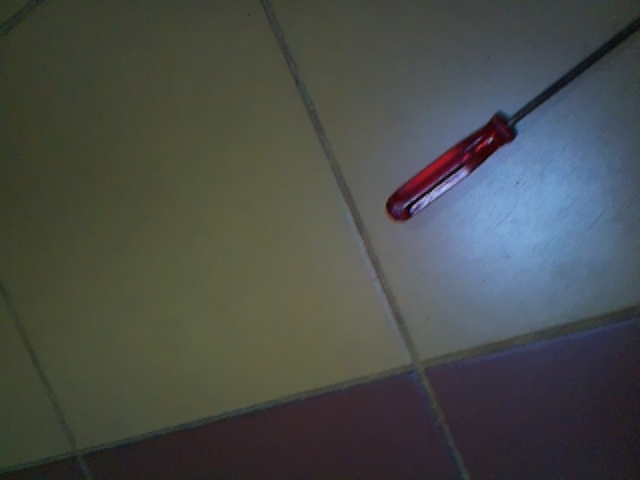redskrew: (380, 44, 614, 229)
